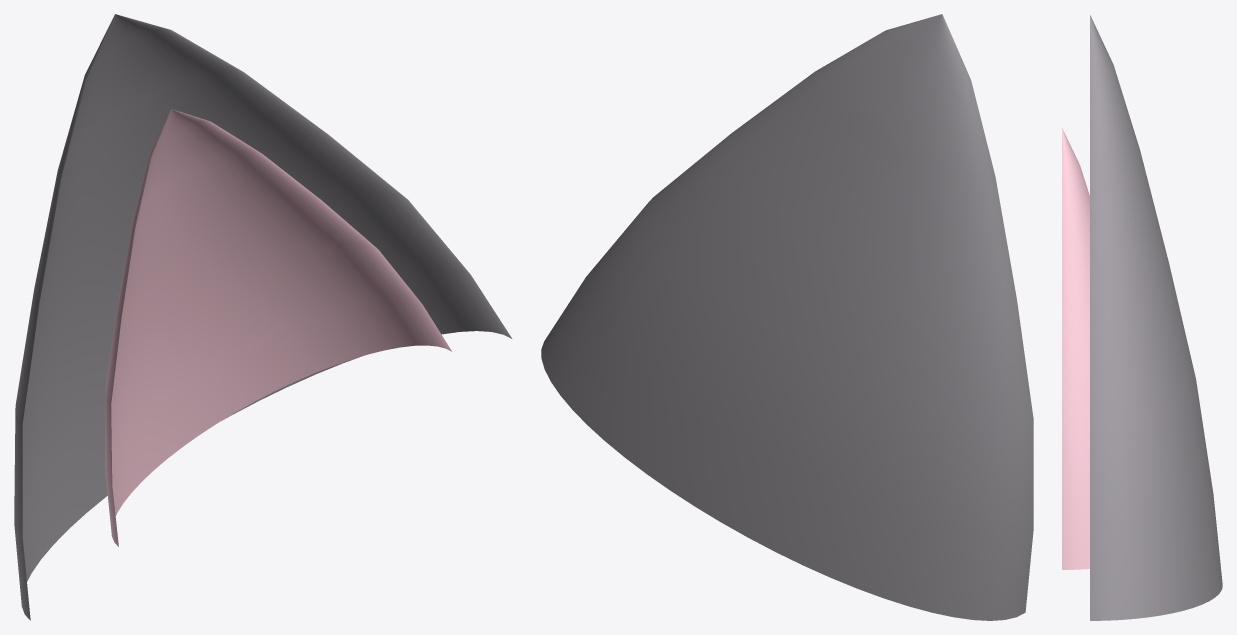
File: cat_ear_r.glb
3 views of the same model, side by side, from view 1: azimuth 30°, elevation 25°; view 2: azimuth 150°, elevation 25°; view 3: azimuth 270°, elevation 25° (orthographic).
Size of the model in its own units: 0.0503 by 0.0575 by 0.0145.
